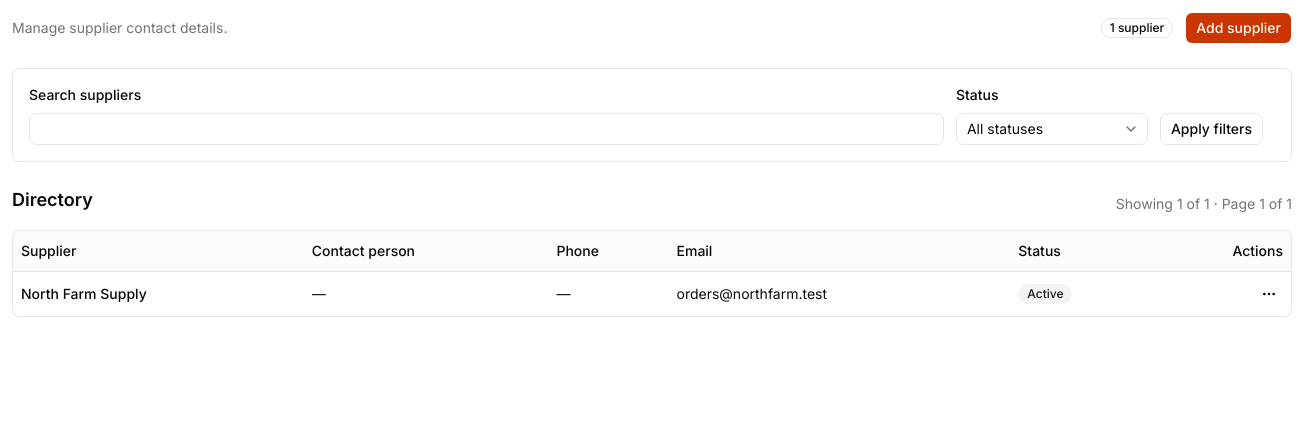
it: catalog management › puts catalog row actions behind an accessible menu
Click the button named "More actions for North Farm Supply".
click(1269, 294)  # box x1=1255 y1=280 x2=1283 y2=308
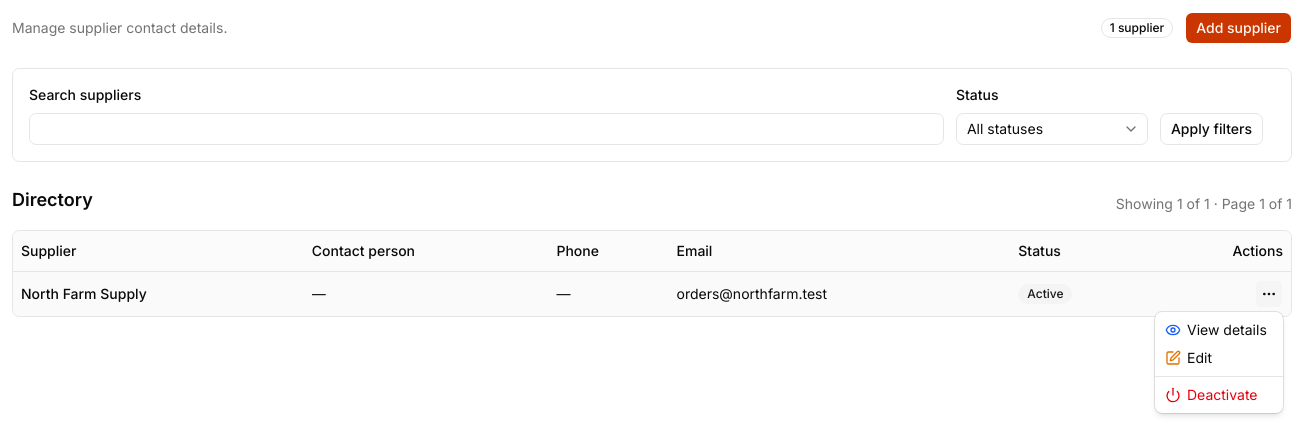
Check: the menu item "View details" is shown, box x1=1165 y1=321 x2=1267 y2=338
Check: the menu item "Edit" is shown, box x1=1165 y1=349 x2=1212 y2=366
Check: the menu item "Deactivate" is shown, box x1=1165 y1=386 x2=1258 y2=403
